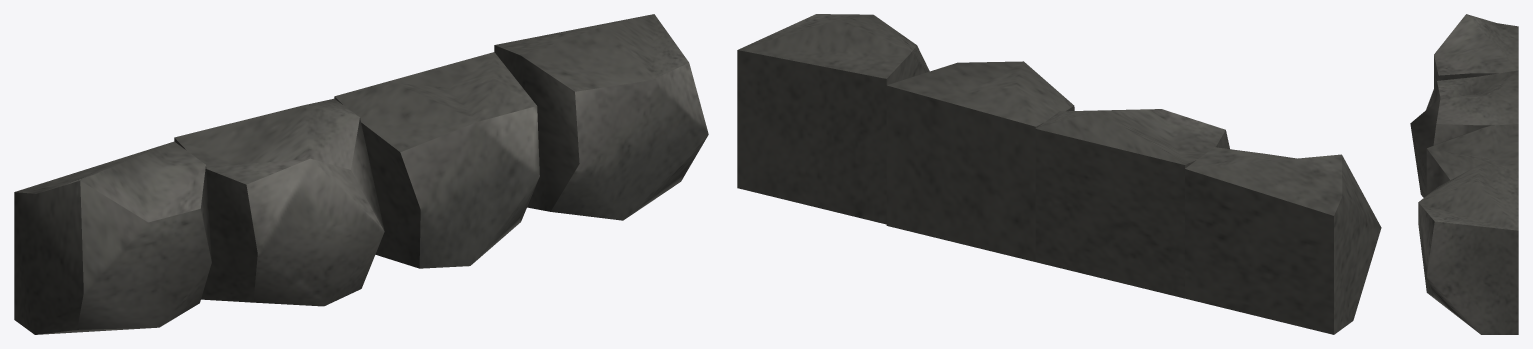
Rendered from gaiheki_block.fbx.
The picture shows the model from 3 angles, left to right: view 1: azimuth 30°, elevation 25°; view 2: azimuth 150°, elevation 25°; view 3: azimuth 270°, elevation 25°; orthographic projection. The views are drawn at different scales.
Visible parts, largest first — view 1: block4, block5, block7, block6; view 2: block5, block6, block7, block4; view 3: block6, block4, block5, block7.
Boxes of the visible parts, <box> form: block4: <box>174,98,384,306</box>; block5: <box>14,141,211,334</box>; block7: <box>334,52,539,268</box>; block6: <box>494,14,708,220</box>; block5: <box>1185,147,1381,334</box>; block6: <box>737,14,929,224</box>; block7: <box>886,61,1074,261</box>; block4: <box>1035,109,1229,298</box>; block6: <box>1418,164,1518,334</box>; block4: <box>1410,70,1518,197</box>; block5: <box>1434,14,1518,87</box>; block7: <box>1426,124,1518,195</box>.
Size of the model in its own units: 200 by 53.6 by 41.65.
